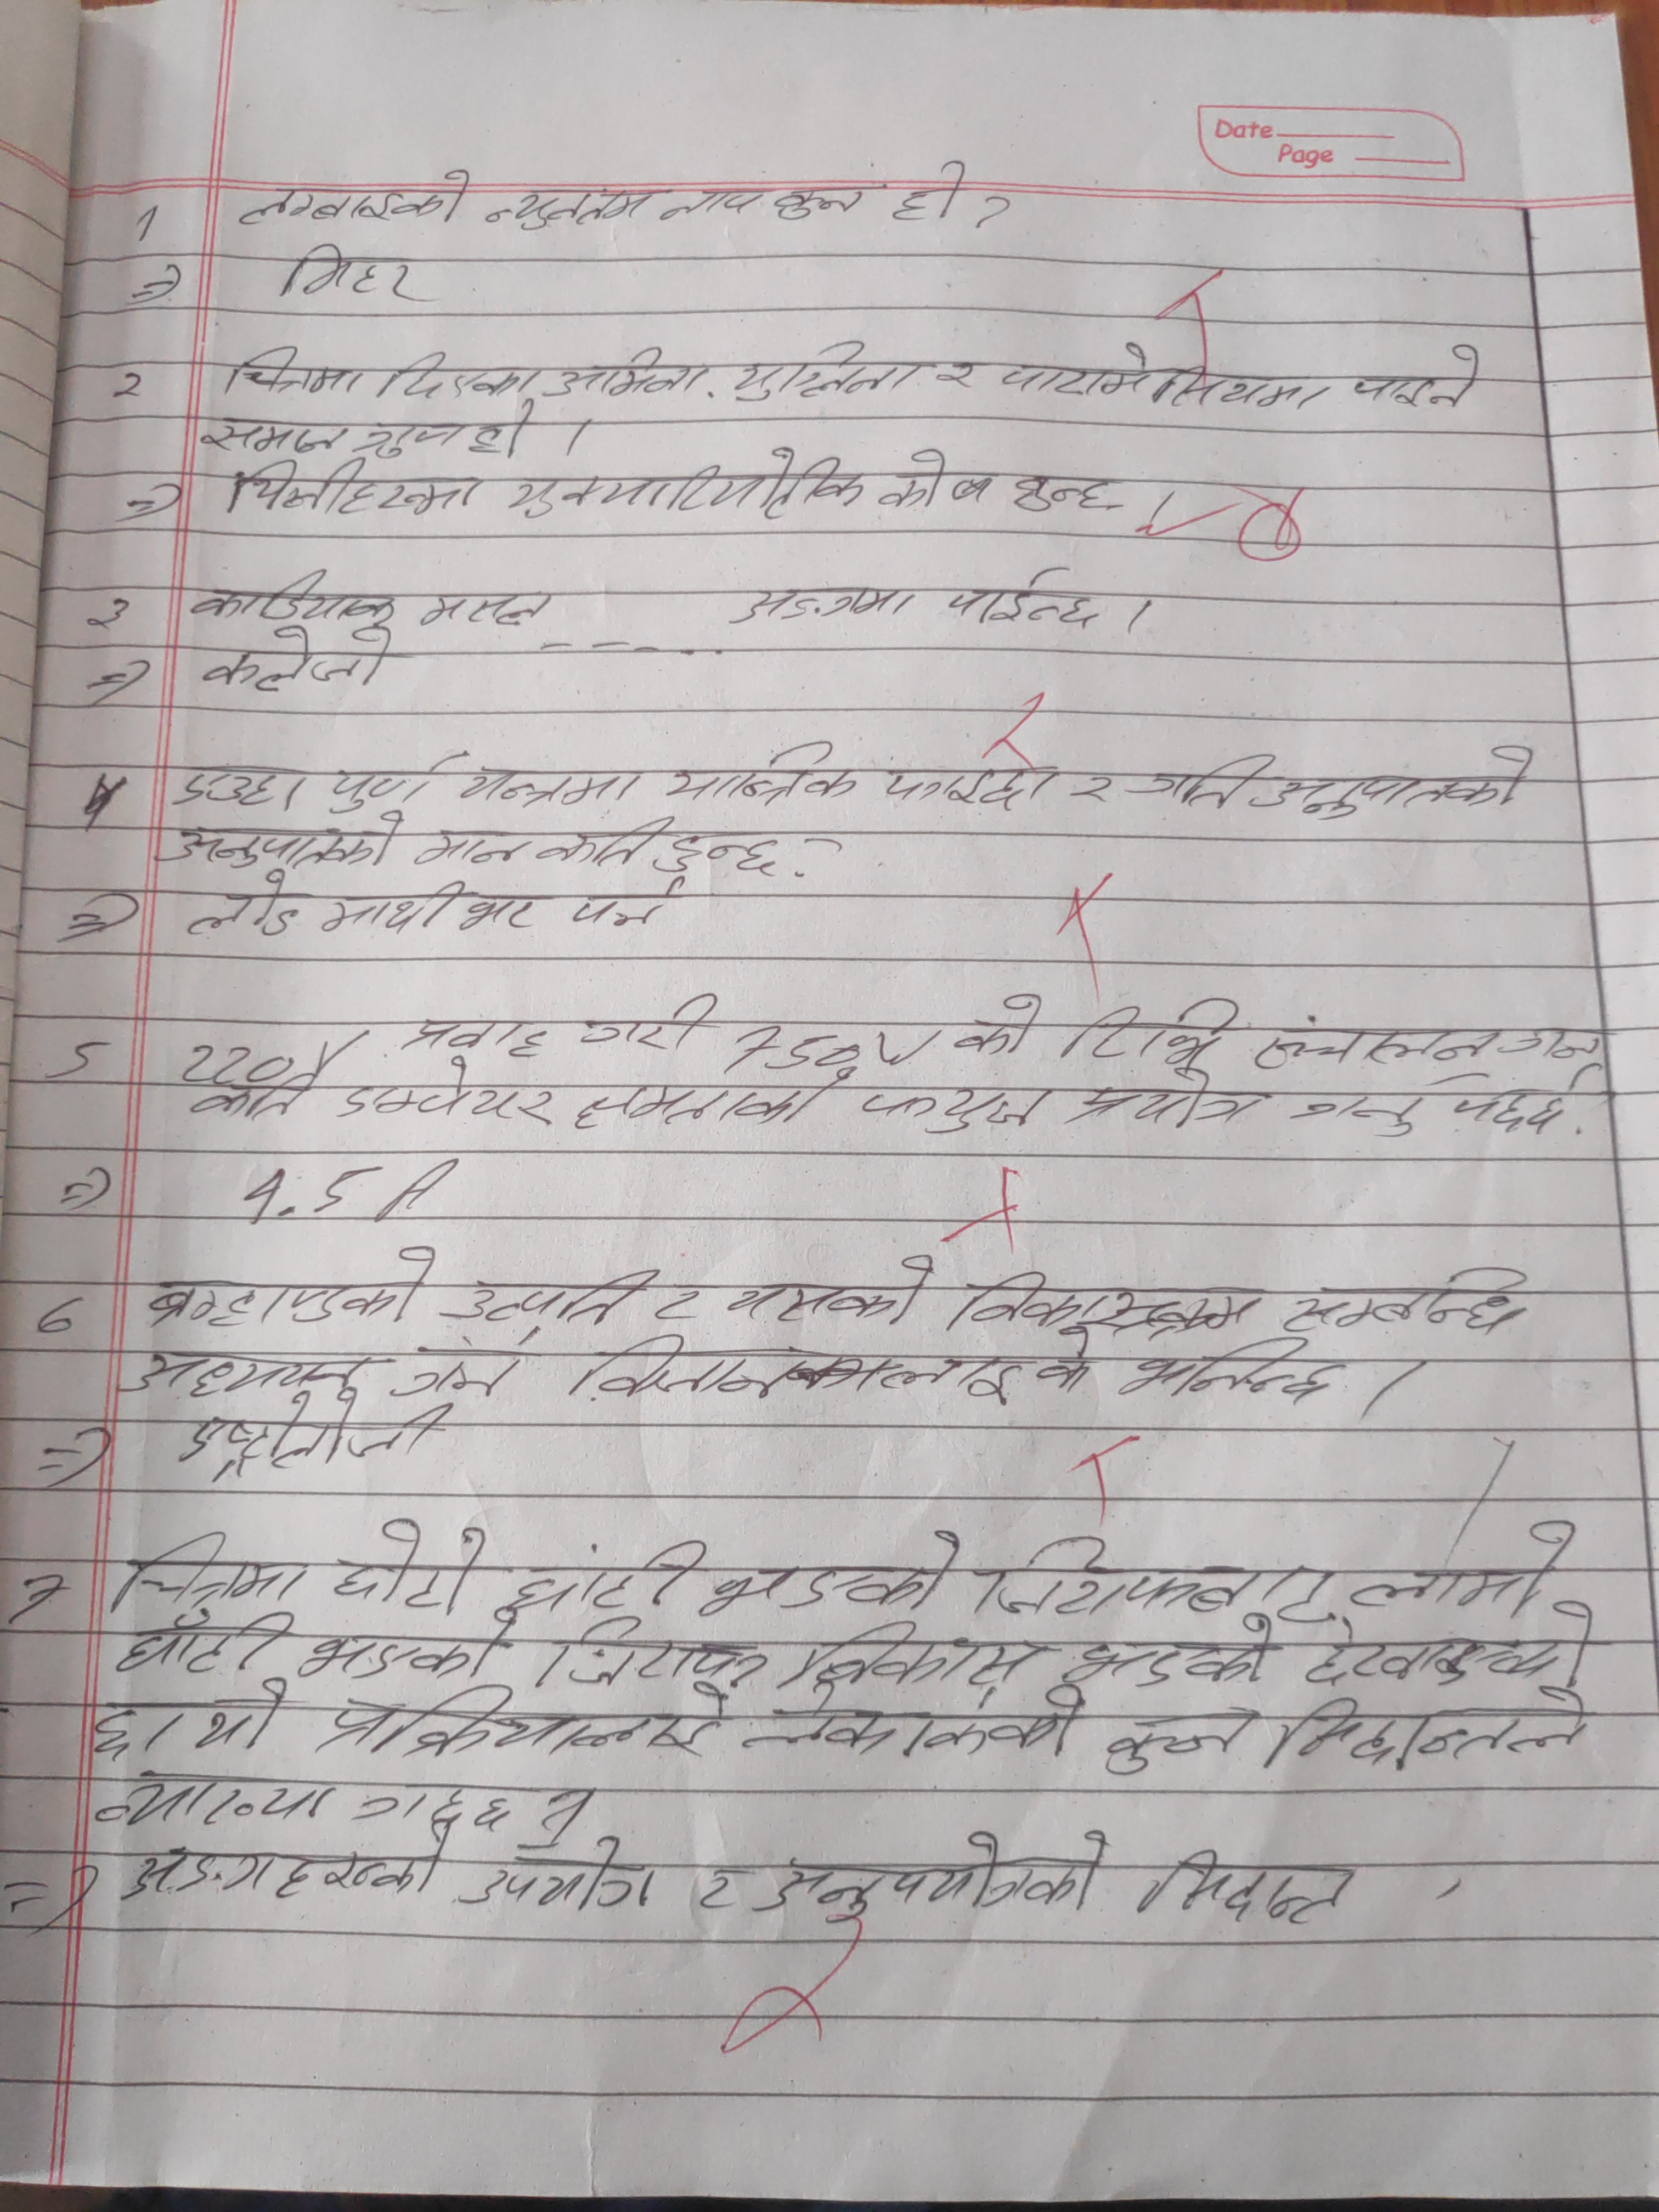text: (971, 1531, 1338, 1630), (765, 1824, 1112, 1921), (568, 1332, 1030, 1404), (317, 1684, 734, 1763), (1269, 1679, 1605, 1773), (1302, 1597, 1601, 1691), (746, 1683, 1094, 1759), (509, 449, 864, 523), (995, 341, 1331, 416), (1349, 1515, 1575, 1623), (173, 1393, 455, 1477), (138, 1247, 441, 1324), (709, 1531, 962, 1620), (124, 1831, 451, 1898), (1263, 747, 1546, 824), (1248, 1015, 1612, 1071), (1138, 1843, 1359, 1932), (1295, 1073, 1591, 1139), (953, 1270, 1272, 1329), (1286, 1268, 1534, 1343), (793, 1616, 1051, 1686), (357, 1771, 596, 1846), (568, 1066, 854, 1125), (87, 1677, 293, 1759), (329, 1515, 488, 1620), (338, 1055, 558, 1130), (502, 1538, 706, 1616), (1061, 1613, 1284, 1684), (725, 1251, 943, 1322), (1061, 1064, 1274, 1137), (113, 1531, 308, 1609), (538, 1615, 774, 1679), (469, 1843, 662, 1921), (237, 165, 471, 230), (1121, 1339, 1347, 1406), (221, 458, 490, 514), (159, 810, 406, 869), (89, 1771, 342, 1829), (202, 627, 408, 697), (664, 737, 864, 808), (115, 1339, 383, 1392), (453, 1261, 655, 1327), (1063, 995, 1239, 1068), (188, 564, 399, 625), (113, 1611, 296, 1679), (732, 341, 927, 404), (321, 880, 538, 935), (857, 1076, 1056, 1136), (945, 563, 1100, 637), (1087, 1712, 1260, 1778), (199, 415, 471, 456), (301, 1623, 511, 1677), (878, 749, 1061, 810), (1347, 343, 1485, 420), (396, 1329, 532, 1402), (183, 871, 303, 951), (575, 991, 725, 1054), (277, 244, 427, 305), (1129, 747, 1270, 812), (481, 185, 657, 235), (457, 761, 648, 806), (319, 751, 457, 812), (558, 345, 716, 397), (734, 580, 917, 625), (218, 348, 364, 402), (376, 355, 549, 401), (535, 813, 671, 867), (169, 759, 308, 812), (565, 874, 690, 932), (413, 583, 554, 634), (406, 1015, 563, 1061), (1006, 469, 1131, 524), (186, 1075, 315, 1123), (765, 171, 880, 225), (957, 984, 1042, 1055), (415, 819, 535, 869), (660, 172, 769, 226), (662, 824, 784, 871), (896, 158, 976, 230), (1030, 1324, 1100, 1400), (875, 453, 951, 512), (471, 404, 538, 458), (1056, 761, 1117, 812), (931, 354, 992, 402), (695, 1865, 744, 1919)
